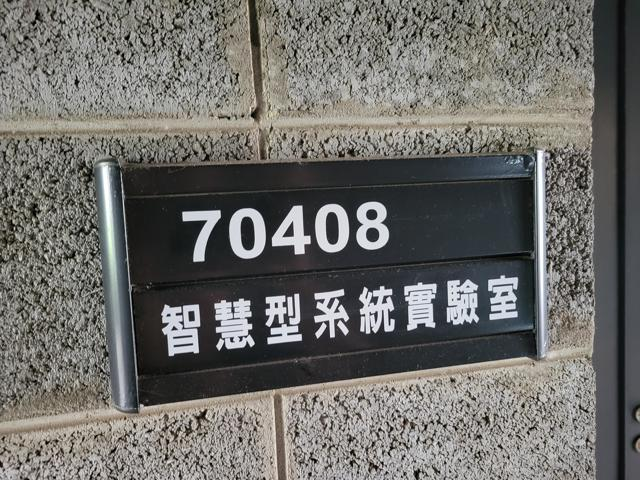doorplate: (78, 139, 558, 418)
